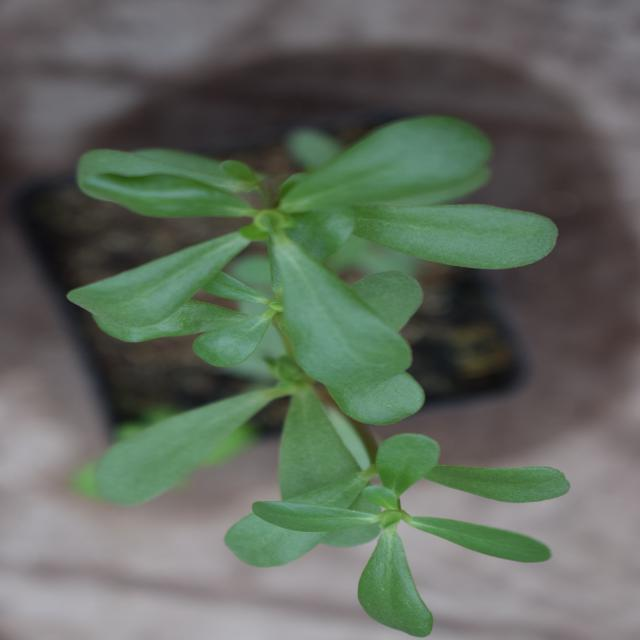purslane: (30, 78, 534, 557)
